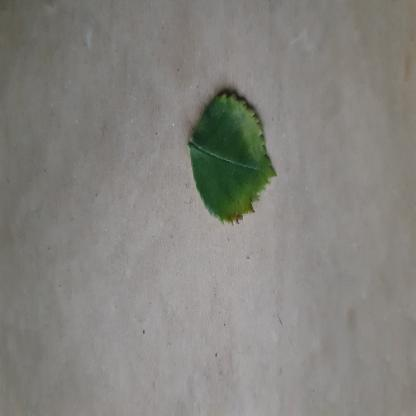downy-mildew: (189, 86, 278, 228)
